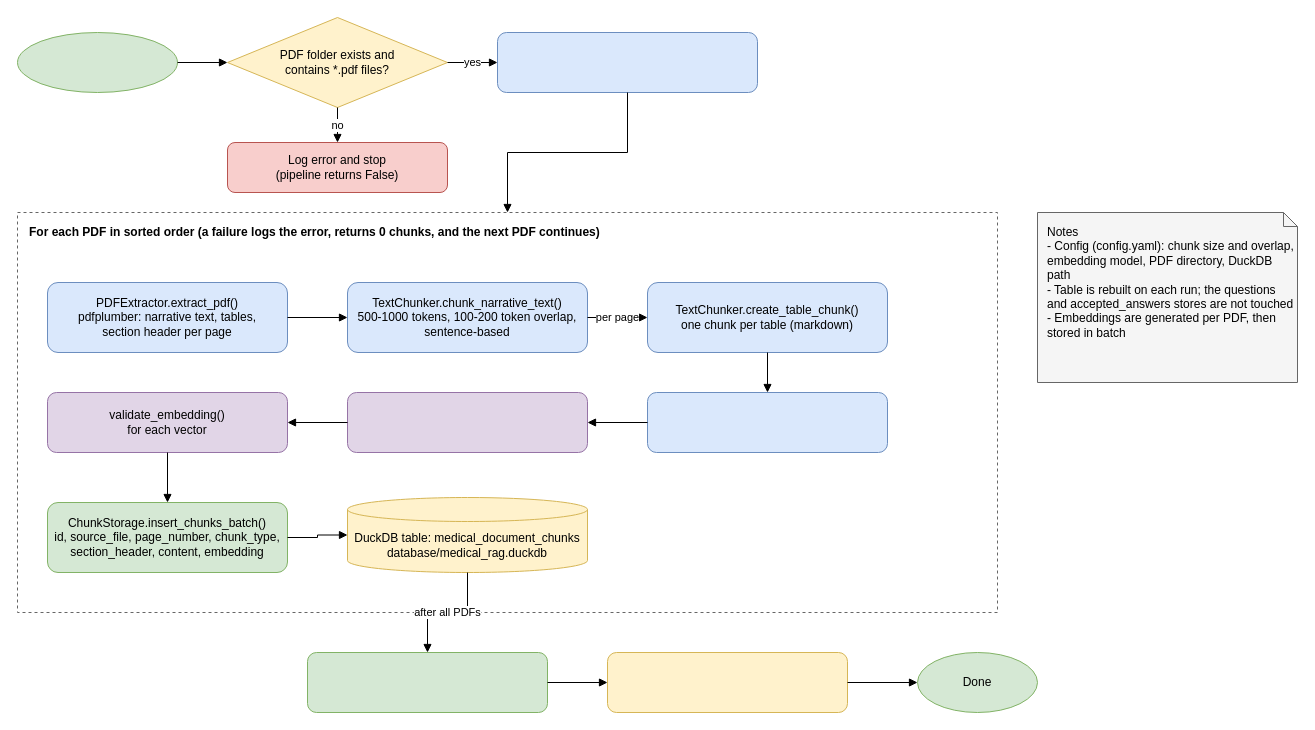
Image size: 1315x730. Some labels were removed from this diagram. The box of each missing label's shape, as (x1, y1, x2, y2) in pixels:
ChunkStorage.create_index() HNSW index on embedding column: (306, 652, 548, 712)
ChunkStorage.create_table() DROP and CREATE medical_document_chunks: (496, 32, 758, 92)
Collect all chunks for the PDF: (646, 392, 888, 452)
EmbeddingGenerator.encode_texts() BAAI/bge-base-en-v1.5, 768-dim, L2 normalized: (346, 392, 588, 452)
get_chunk_count() verify at least one chunk stored: (606, 652, 848, 712)
Start python -m src.ingestion.run: (16, 32, 178, 92)
